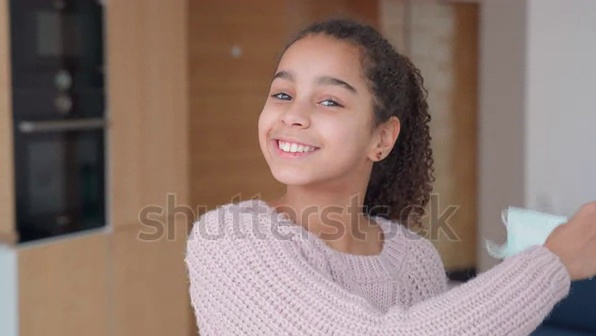No Mask: (250, 120, 365, 190)
